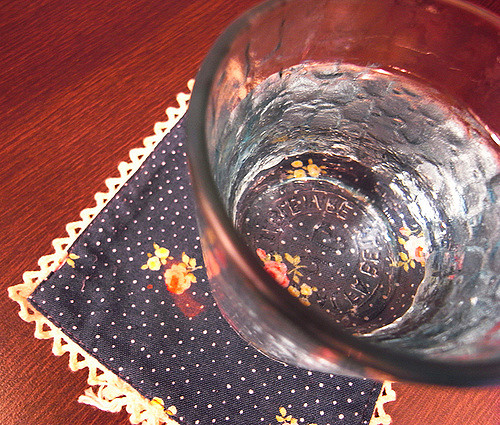glass of water: (198, 9, 500, 389)
